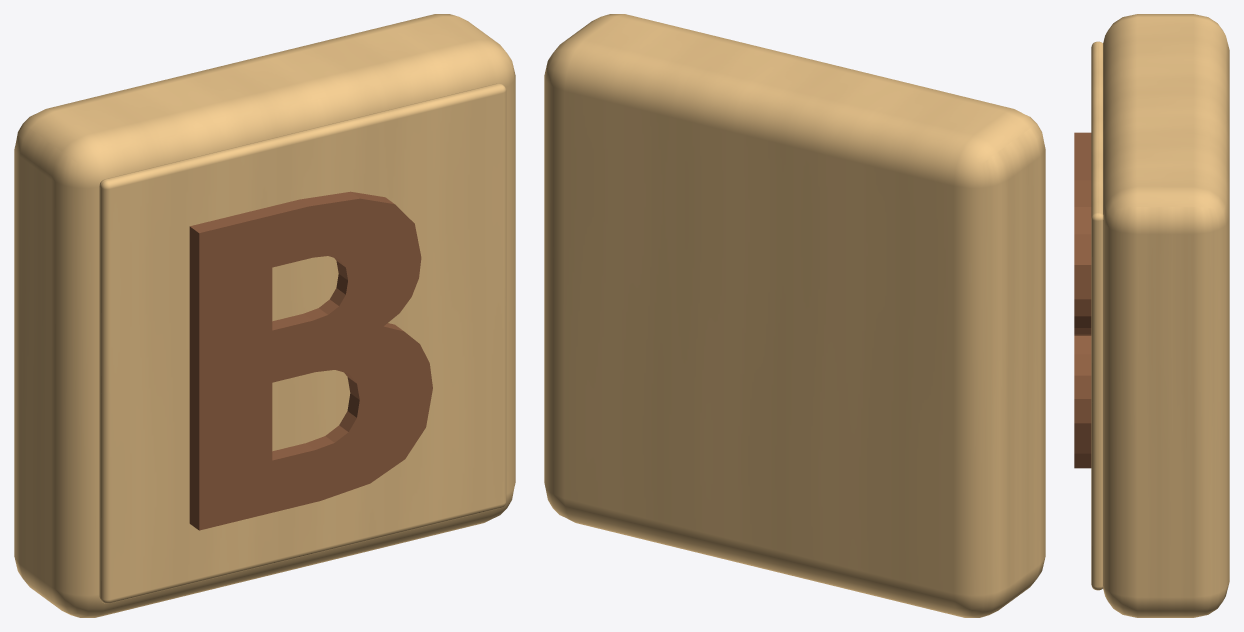
3 views of the same model, side by side, from view 1: azimuth 30°, elevation 25°; view 2: azimuth 150°, elevation 25°; view 3: azimuth 270°, elevation 25° (orthographic). The views are drawn at different scales.
Parts seen in each view (by area): view 1: Tile_B; view 2: Tile_B; view 3: Tile_B.
Part boxes in pixels (left/top/right/bottom): Tile_B: left=14, top=14, right=515, bottom=617; Tile_B: left=544, top=14, right=1045, bottom=617; Tile_B: left=1074, top=14, right=1229, bottom=617.
Bounding box in the file's own units: 0.21 × 0.21 × 0.069.
2 materials, 1 textured.
